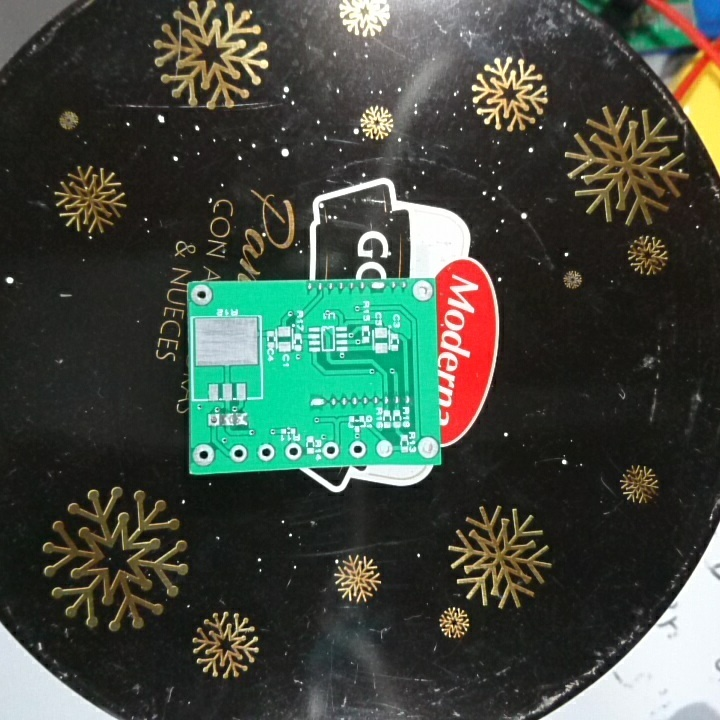F: (191, 440, 219, 470), (189, 283, 216, 309), (410, 278, 435, 305), (416, 432, 439, 460), (319, 440, 344, 463), (256, 440, 278, 466), (284, 440, 303, 468), (228, 444, 250, 467), (374, 438, 395, 460), (347, 439, 367, 462), (204, 411, 222, 433)
P: (306, 393, 329, 412), (368, 280, 387, 294)
